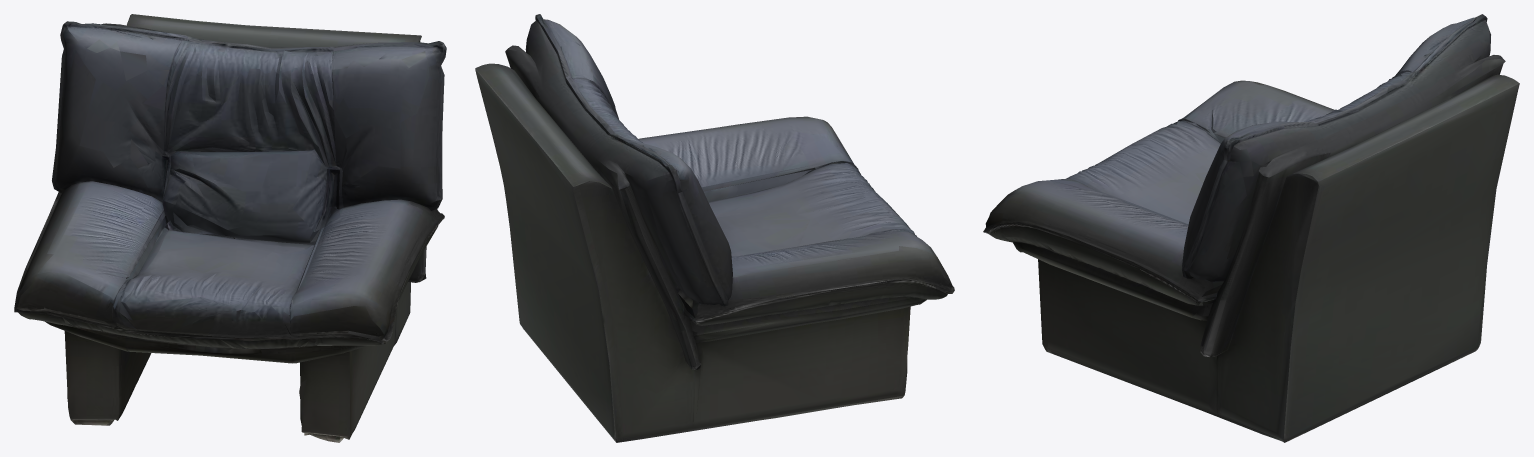
Rendered from berjer_siyah2.glb.
3 views of the same model, side by side, from view 1: azimuth 30°, elevation 25°; view 2: azimuth 150°, elevation 25°; view 3: azimuth 270°, elevation 25° (orthographic). The views are drawn at different scales.
Parts seen in each view (by area): view 1: node_0_S-Remesh.004_Material.011_0; view 2: node_0_S-Remesh.004_Material.011_0; view 3: node_0_S-Remesh.004_Material.011_0.
Boxes of the visible parts, box(x1,y1,x2,y2) form: node_0_S-Remesh.004_Material.011_0: box(14, 14, 446, 442); node_0_S-Remesh.004_Material.011_0: box(475, 14, 954, 442); node_0_S-Remesh.004_Material.011_0: box(983, 14, 1519, 442).
Bounding box in the file's own units: 1.25 × 0.8106 × 1.25.
1 material, 1 textured.
